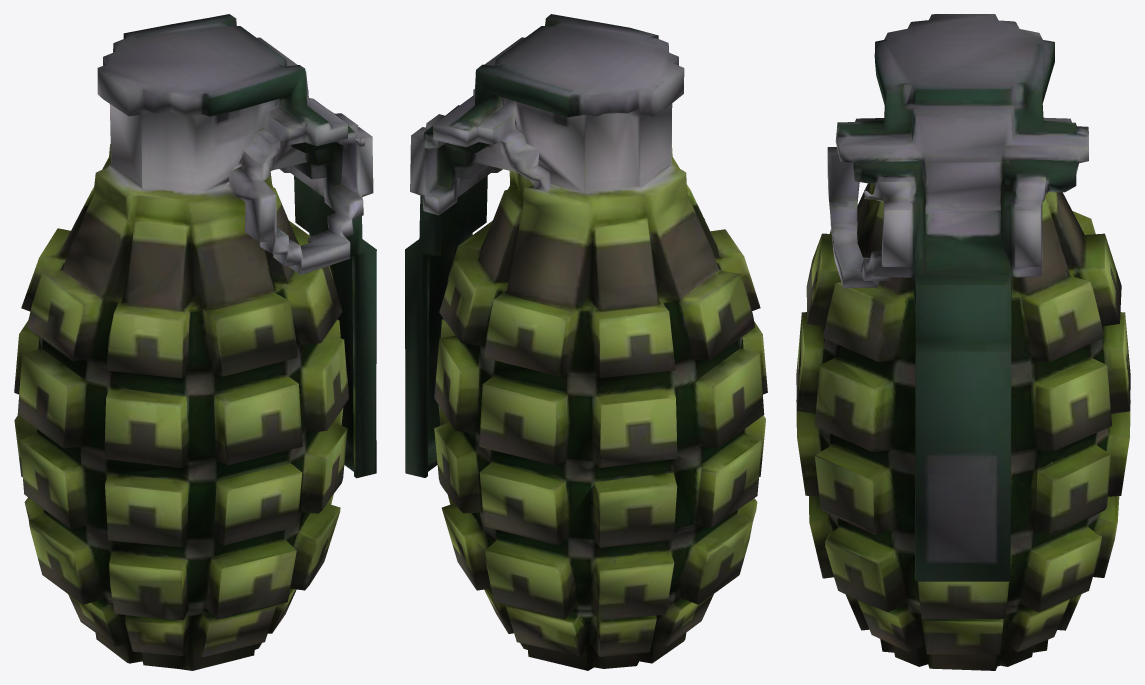
The model's file is smoke-grenade.glb.
3 views of the same model, side by side, from view 1: azimuth 30°, elevation 25°; view 2: azimuth 150°, elevation 25°; view 3: azimuth 270°, elevation 25° (orthographic). The views are drawn at different scales.
Visible parts, largest first — view 1: material; view 2: material; view 3: material.
Part boxes in pixels (left/top/right/bottom): material: left=14, top=14, right=376, bottom=670; material: left=405, top=14, right=767, bottom=670; material: left=796, top=14, right=1130, bottom=670.
Size of the model in its own units: 0.6485 by 1.14 by 0.5838.
1 material, 1 textured.
